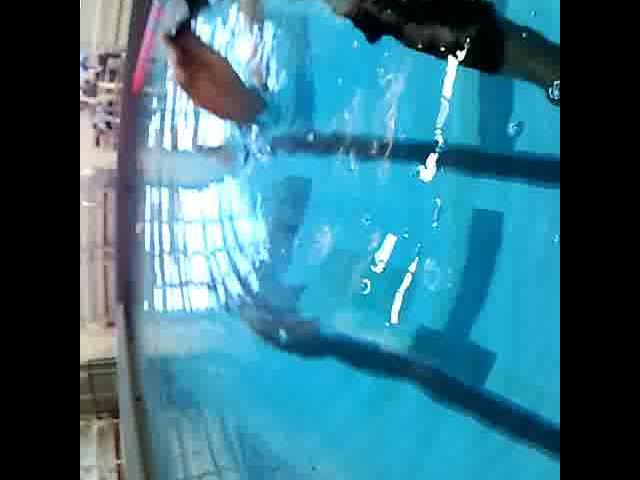CamMount: (164, 0, 210, 57)
